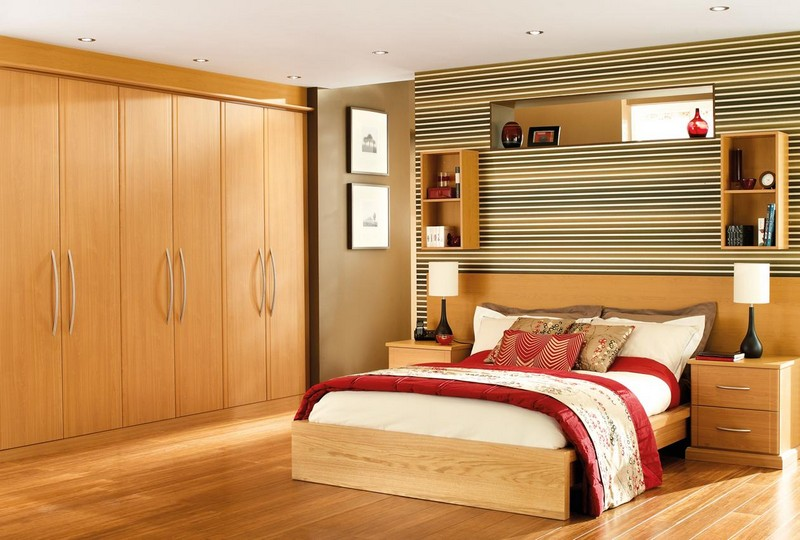bed: (291, 300, 717, 521)
lamp: (730, 259, 770, 358), (426, 257, 457, 342)
stool: (684, 351, 799, 484), (386, 334, 474, 379)
